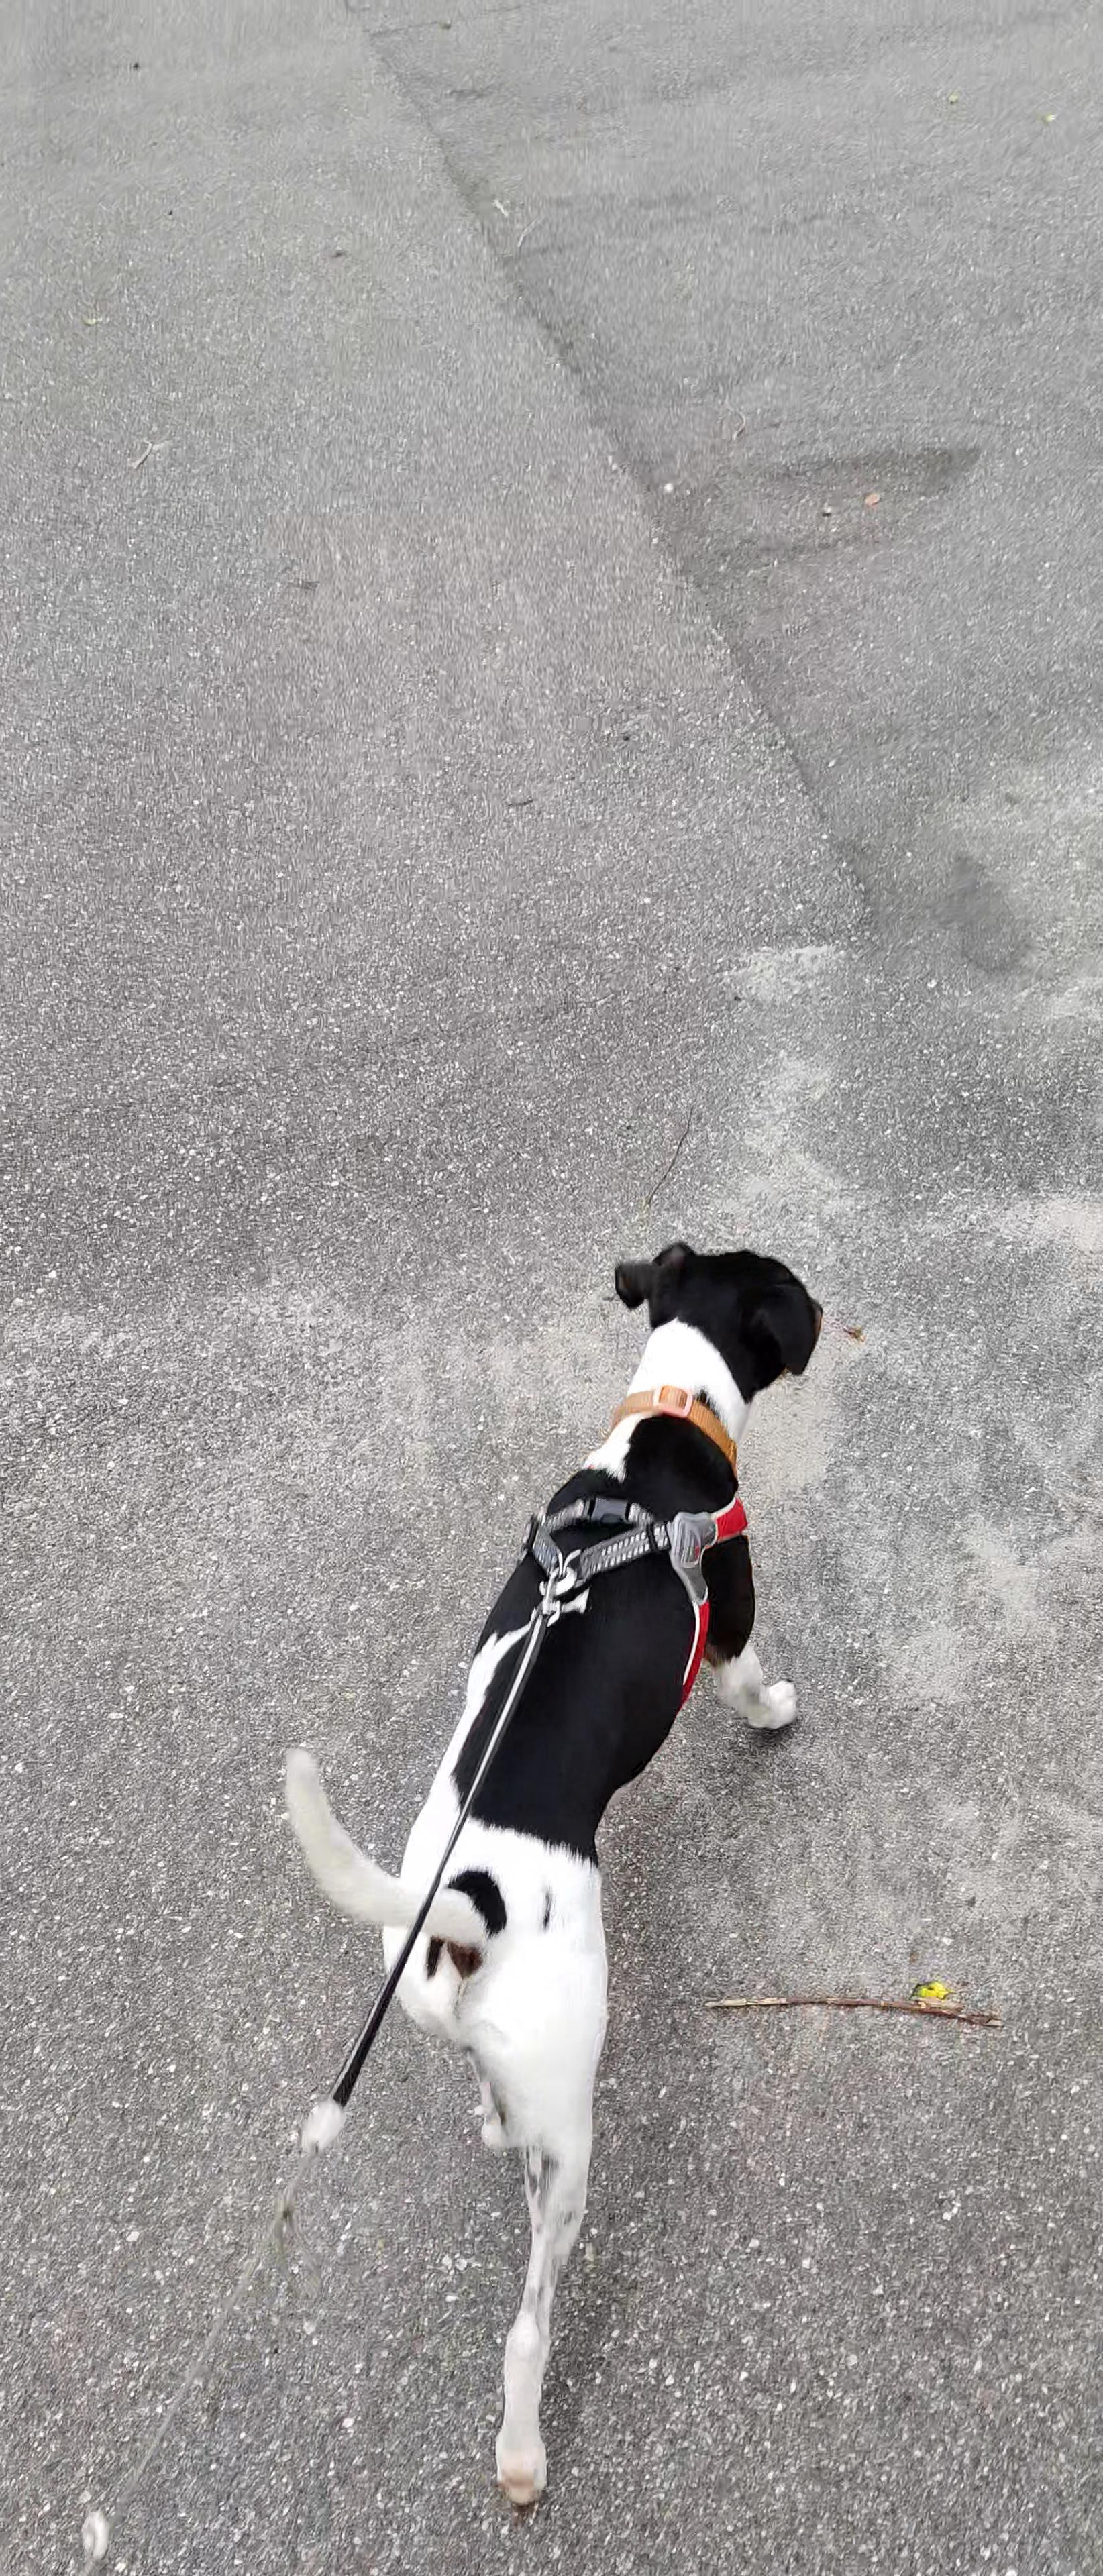Dog: (284, 1237, 824, 2514)
